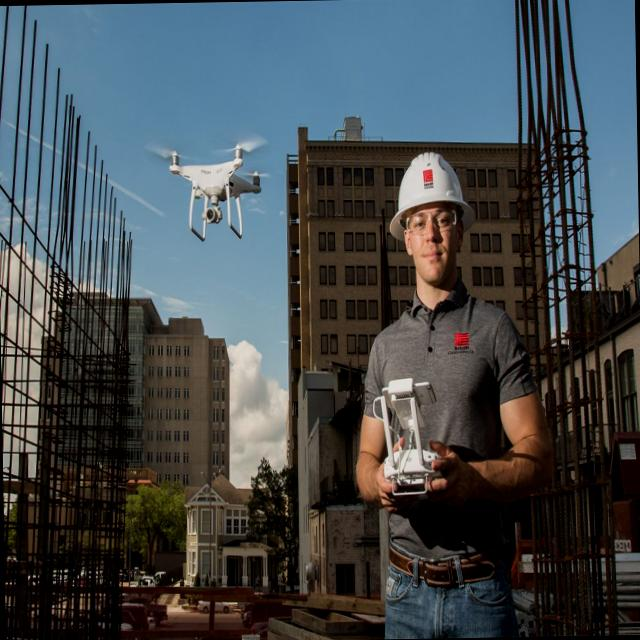goggles: (408, 207, 459, 233)
helmet: (390, 150, 470, 217)
no-vest: (364, 285, 536, 522)
